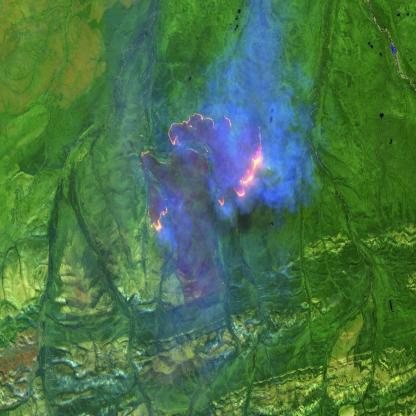fire: (139, 103, 266, 233)
